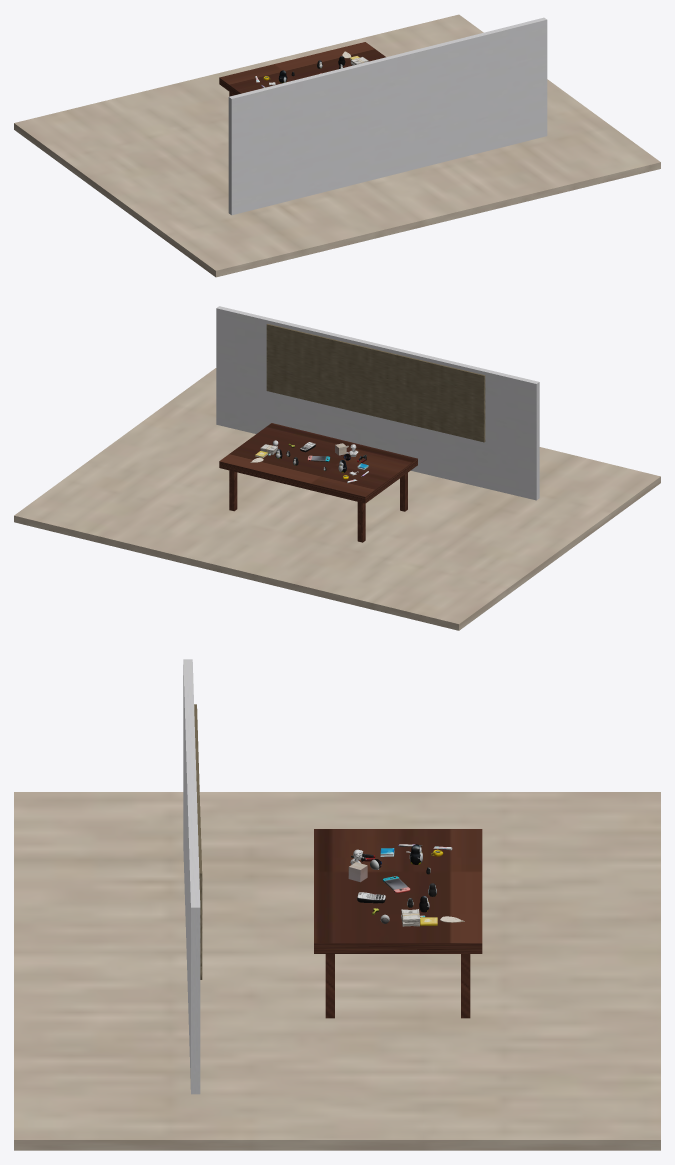
Rendered from ours.glb.
3 renders of one model, top to bottom at view 1: azimuth 30°, elevation 25°; view 2: azimuth 150°, elevation 25°; view 3: azimuth 270°, elevation 25°, orthographic. The views are drawn at different scales.
Parts seen in each view (by area): view 1: floor_0, wall_0, table_0; view 2: floor_0, wall_0, wall_0_panel, table_0; view 3: floor_0, table_0, wall_0, wall_0_panel.
Part boxes in pixels (x1,y1,x2,y2): floor_0: [14, 14, 660, 277]; wall_0: [228, 17, 547, 215]; table_0: [219, 42, 385, 96]; floor_0: [14, 368, 660, 630]; wall_0: [216, 306, 539, 500]; wall_0_panel: [266, 323, 485, 442]; table_0: [219, 423, 417, 542]; floor_0: [14, 792, 660, 1150]; table_0: [314, 829, 482, 1018]; wall_0: [183, 659, 200, 1094]; wall_0_panel: [194, 704, 202, 979].
Bounding box in the file's own units: 7 × 1.85 × 5.5.
26 materials, 26 textured.
